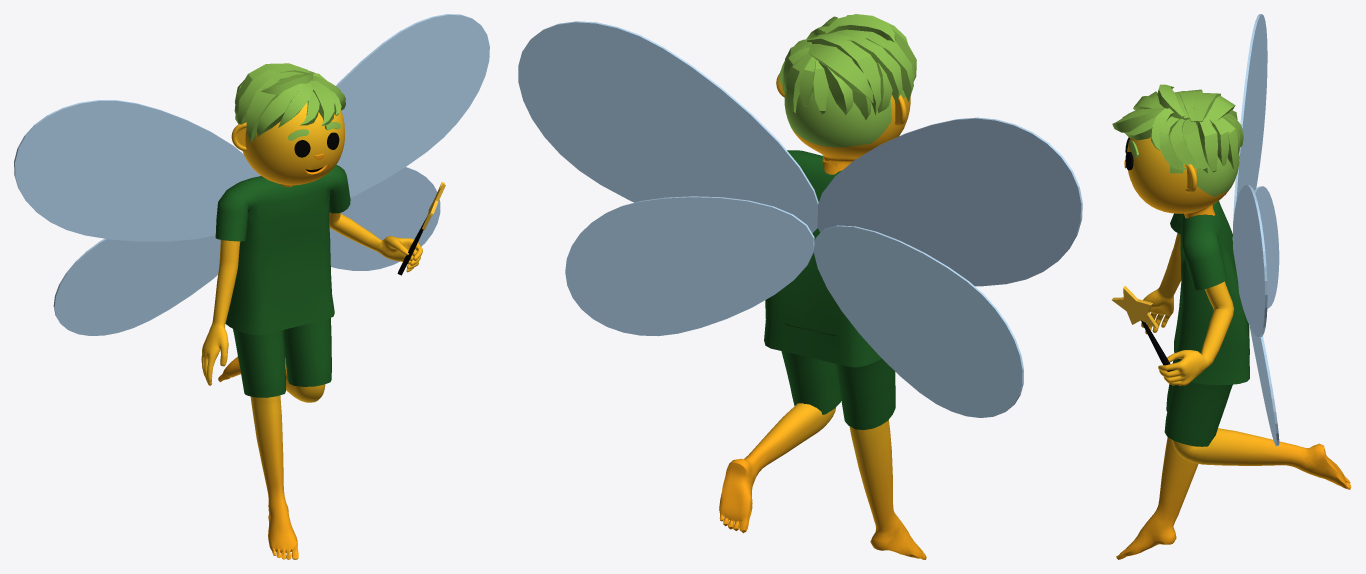
Rendered from fairy.fbx.
3 renders of one model, left to right at view 1: azimuth 30°, elevation 25°; view 2: azimuth 150°, elevation 25°; view 3: azimuth 270°, elevation 25°, orthographic. The views are drawn at different scales.
Parts seen in each view (by area): view 1: Circle.1004, Circle.1003, Cube.560, Roundcube.042; view 2: Circle.1004, Circle.1003, Cube.560, Roundcube.042; view 3: Circle.1003, Circle.1004, Cube.560, Roundcube.042, Cube.548.
Boxes of the visible parts, x1,y1,x2,y2 form: Circle.1004: (14, 14, 489, 335); Circle.1003: (201, 165, 422, 559); Cube.560: (234, 63, 345, 142); Roundcube.042: (242, 102, 344, 187); Circle.1004: (518, 21, 1082, 417); Circle.1003: (719, 150, 926, 559); Cube.560: (778, 14, 916, 120); Roundcube.042: (784, 87, 910, 174); Circle.1003: (1116, 201, 1351, 559); Circle.1004: (1232, 14, 1279, 446); Cube.560: (1112, 84, 1243, 172); Roundcube.042: (1127, 116, 1239, 218); Cube.548: (1112, 286, 1178, 386).
Size of the model in its own units: 217 by 202 by 91.66.
2 materials, 2 textured.
